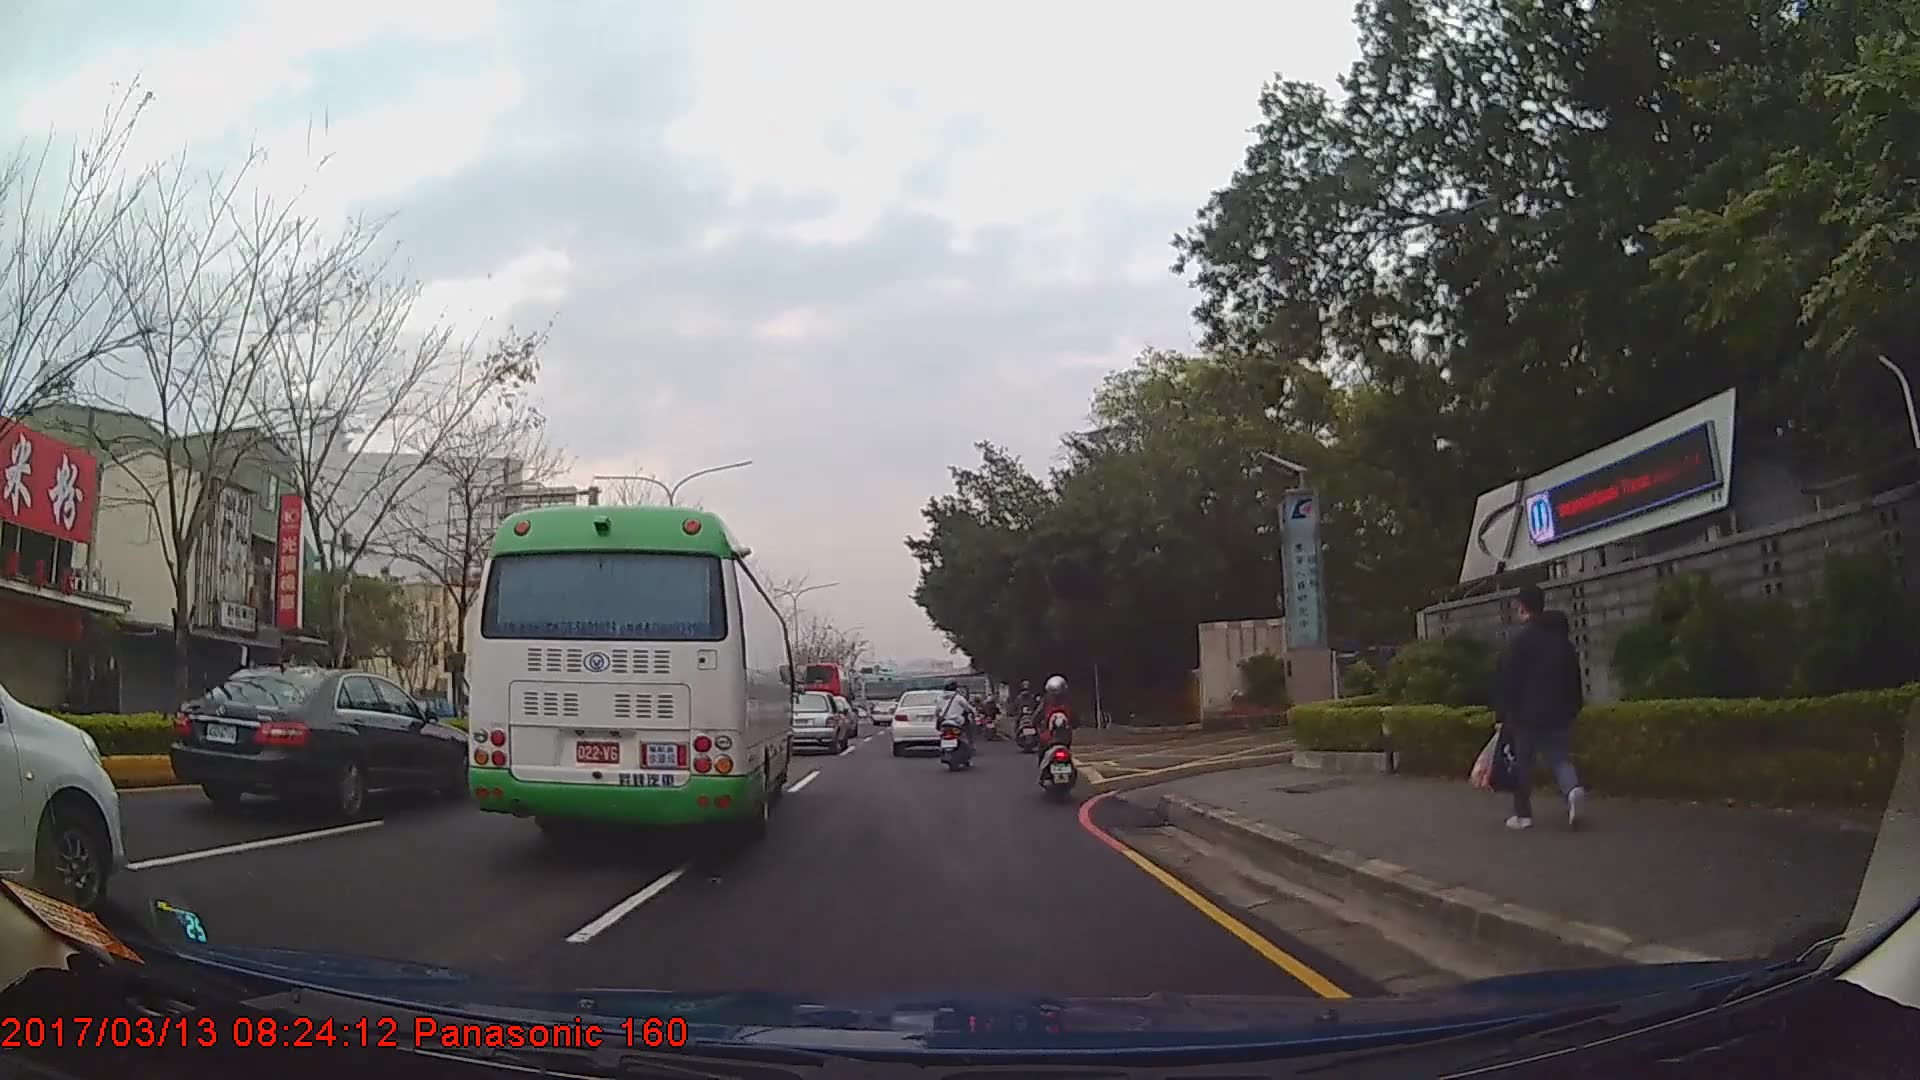pedestrian: (1477, 582, 1593, 832)
rider: (1037, 673, 1078, 797), (935, 677, 976, 770), (1011, 676, 1043, 751), (981, 694, 1001, 728)
vehicle: (464, 504, 793, 845), (168, 663, 475, 821), (890, 686, 964, 755), (788, 691, 849, 756)
